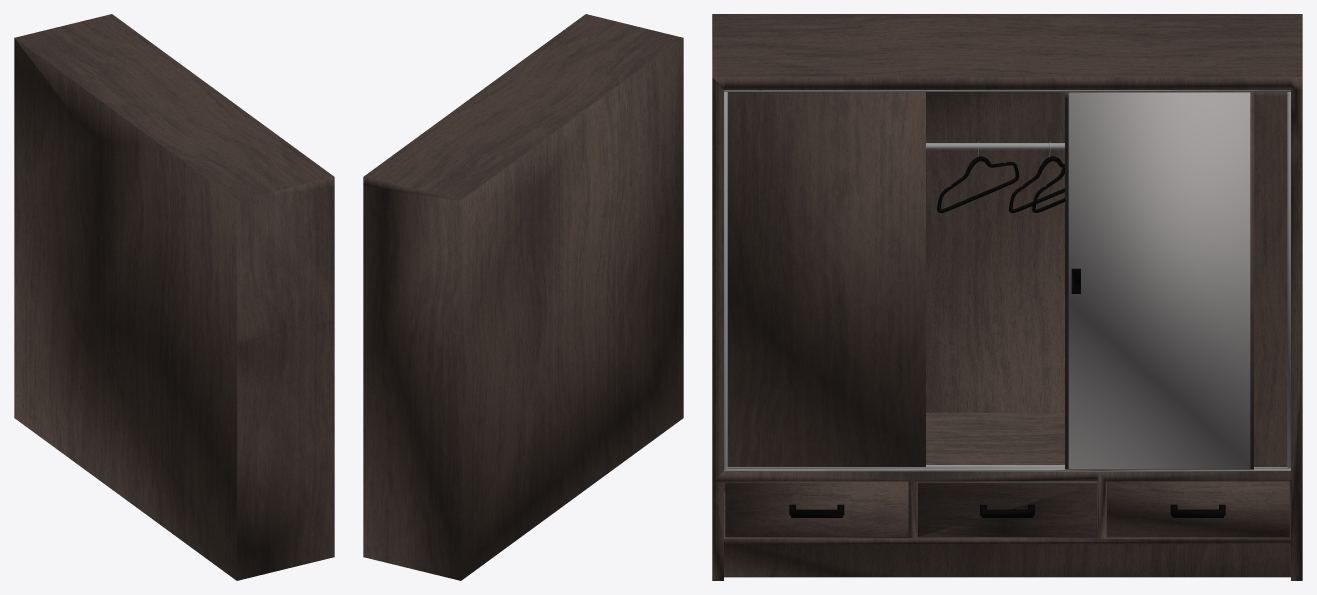
The model's file is wooden-wardrobe-with-hangers-inside-free.glb.
3 renders of one model, left to right at view 1: azimuth 30°, elevation 25°; view 2: azimuth 150°, elevation 25°; view 3: azimuth 270°, elevation 25°, orthographic. The views are drawn at different scales.
Parts seen in each view (by area): view 1: Object_4; view 2: Object_4; view 3: Object_4, Object_39, Object_6, Object_12.
Boxes of the visible parts, <box> form: Object_4: <box>14,14,334,580</box>; Object_4: <box>363,14,683,580</box>; Object_4: <box>712,14,1302,580</box>; Object_39: <box>1068,92,1250,468</box>; Object_6: <box>724,90,1290,471</box>; Object_12: <box>789,156,1225,517</box>.
Bounding box in the file's own units: 0.5489 × 1.9 × 2.02.
Materials: 4 (1 with a texture image).
